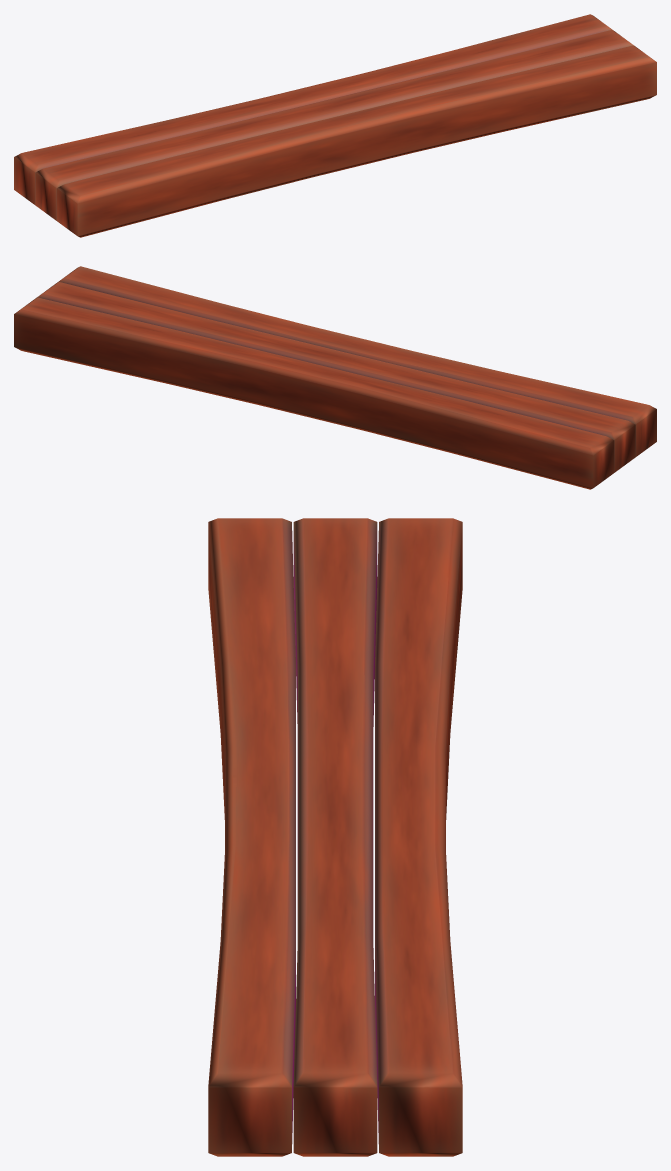
File: barrel_columne_plank_1.fbx
3 renders of one model, top to bottom at view 1: azimuth 30°, elevation 25°; view 2: azimuth 150°, elevation 25°; view 3: azimuth 270°, elevation 25°, orthographic. The views are drawn at different scales.
Visible parts, largest first — view 1: l_leg.029; view 2: l_leg.029; view 3: l_leg.029.
Part boxes in pixels (x1,y1,x2,y2): l_leg.029: (14,14,656,237); l_leg.029: (14,266,656,489); l_leg.029: (208,518,462,1156).
Bounding box in the file's own units: 1669 × 115 × 318.
